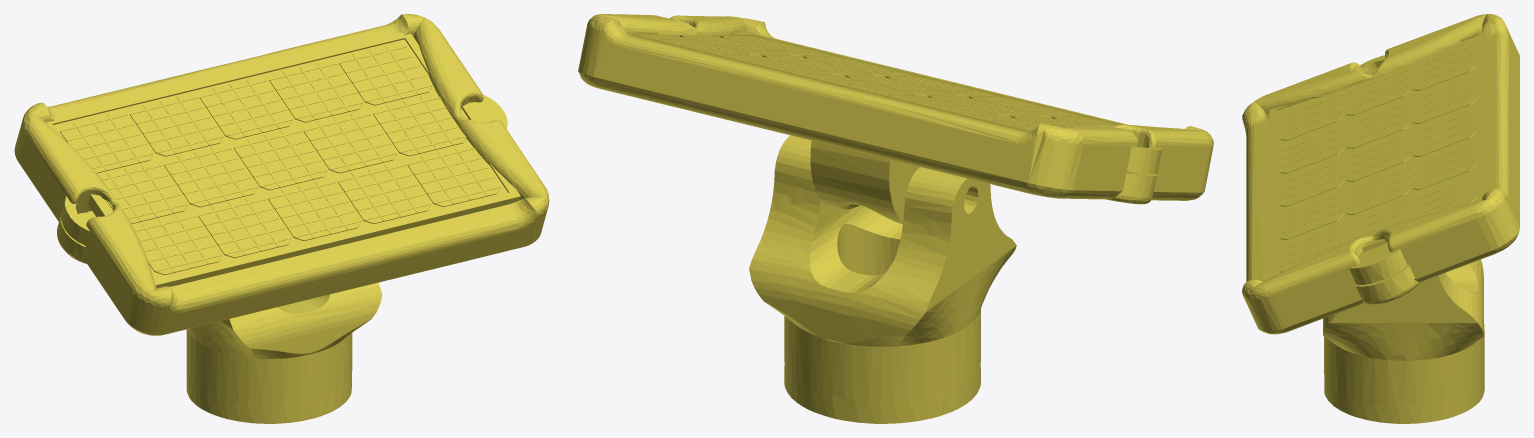
The model's file is solar_panel.glb.
The picture shows the model from 3 angles, left to right: view 1: azimuth 30°, elevation 25°; view 2: azimuth 150°, elevation 25°; view 3: azimuth 270°, elevation 25°; orthographic projection. The views are drawn at different scales.
Visible parts, largest first — view 1: Mesh_Mesh_head_geo.001_lambert2SG.001; view 2: Mesh_Mesh_head_geo.001_lambert2SG.001; view 3: Mesh_Mesh_head_geo.001_lambert2SG.001.
Boxes of the visible parts, x1=… form: Mesh_Mesh_head_geo.001_lambert2SG.001: x1=14, y1=14, x2=549, y2=423; Mesh_Mesh_head_geo.001_lambert2SG.001: x1=578, y1=14, x2=1213, y2=423; Mesh_Mesh_head_geo.001_lambert2SG.001: x1=1242, y1=14, x2=1519, y2=423.
Size of the model in its own units: 0.0786 by 0.0511 by 0.0449.
